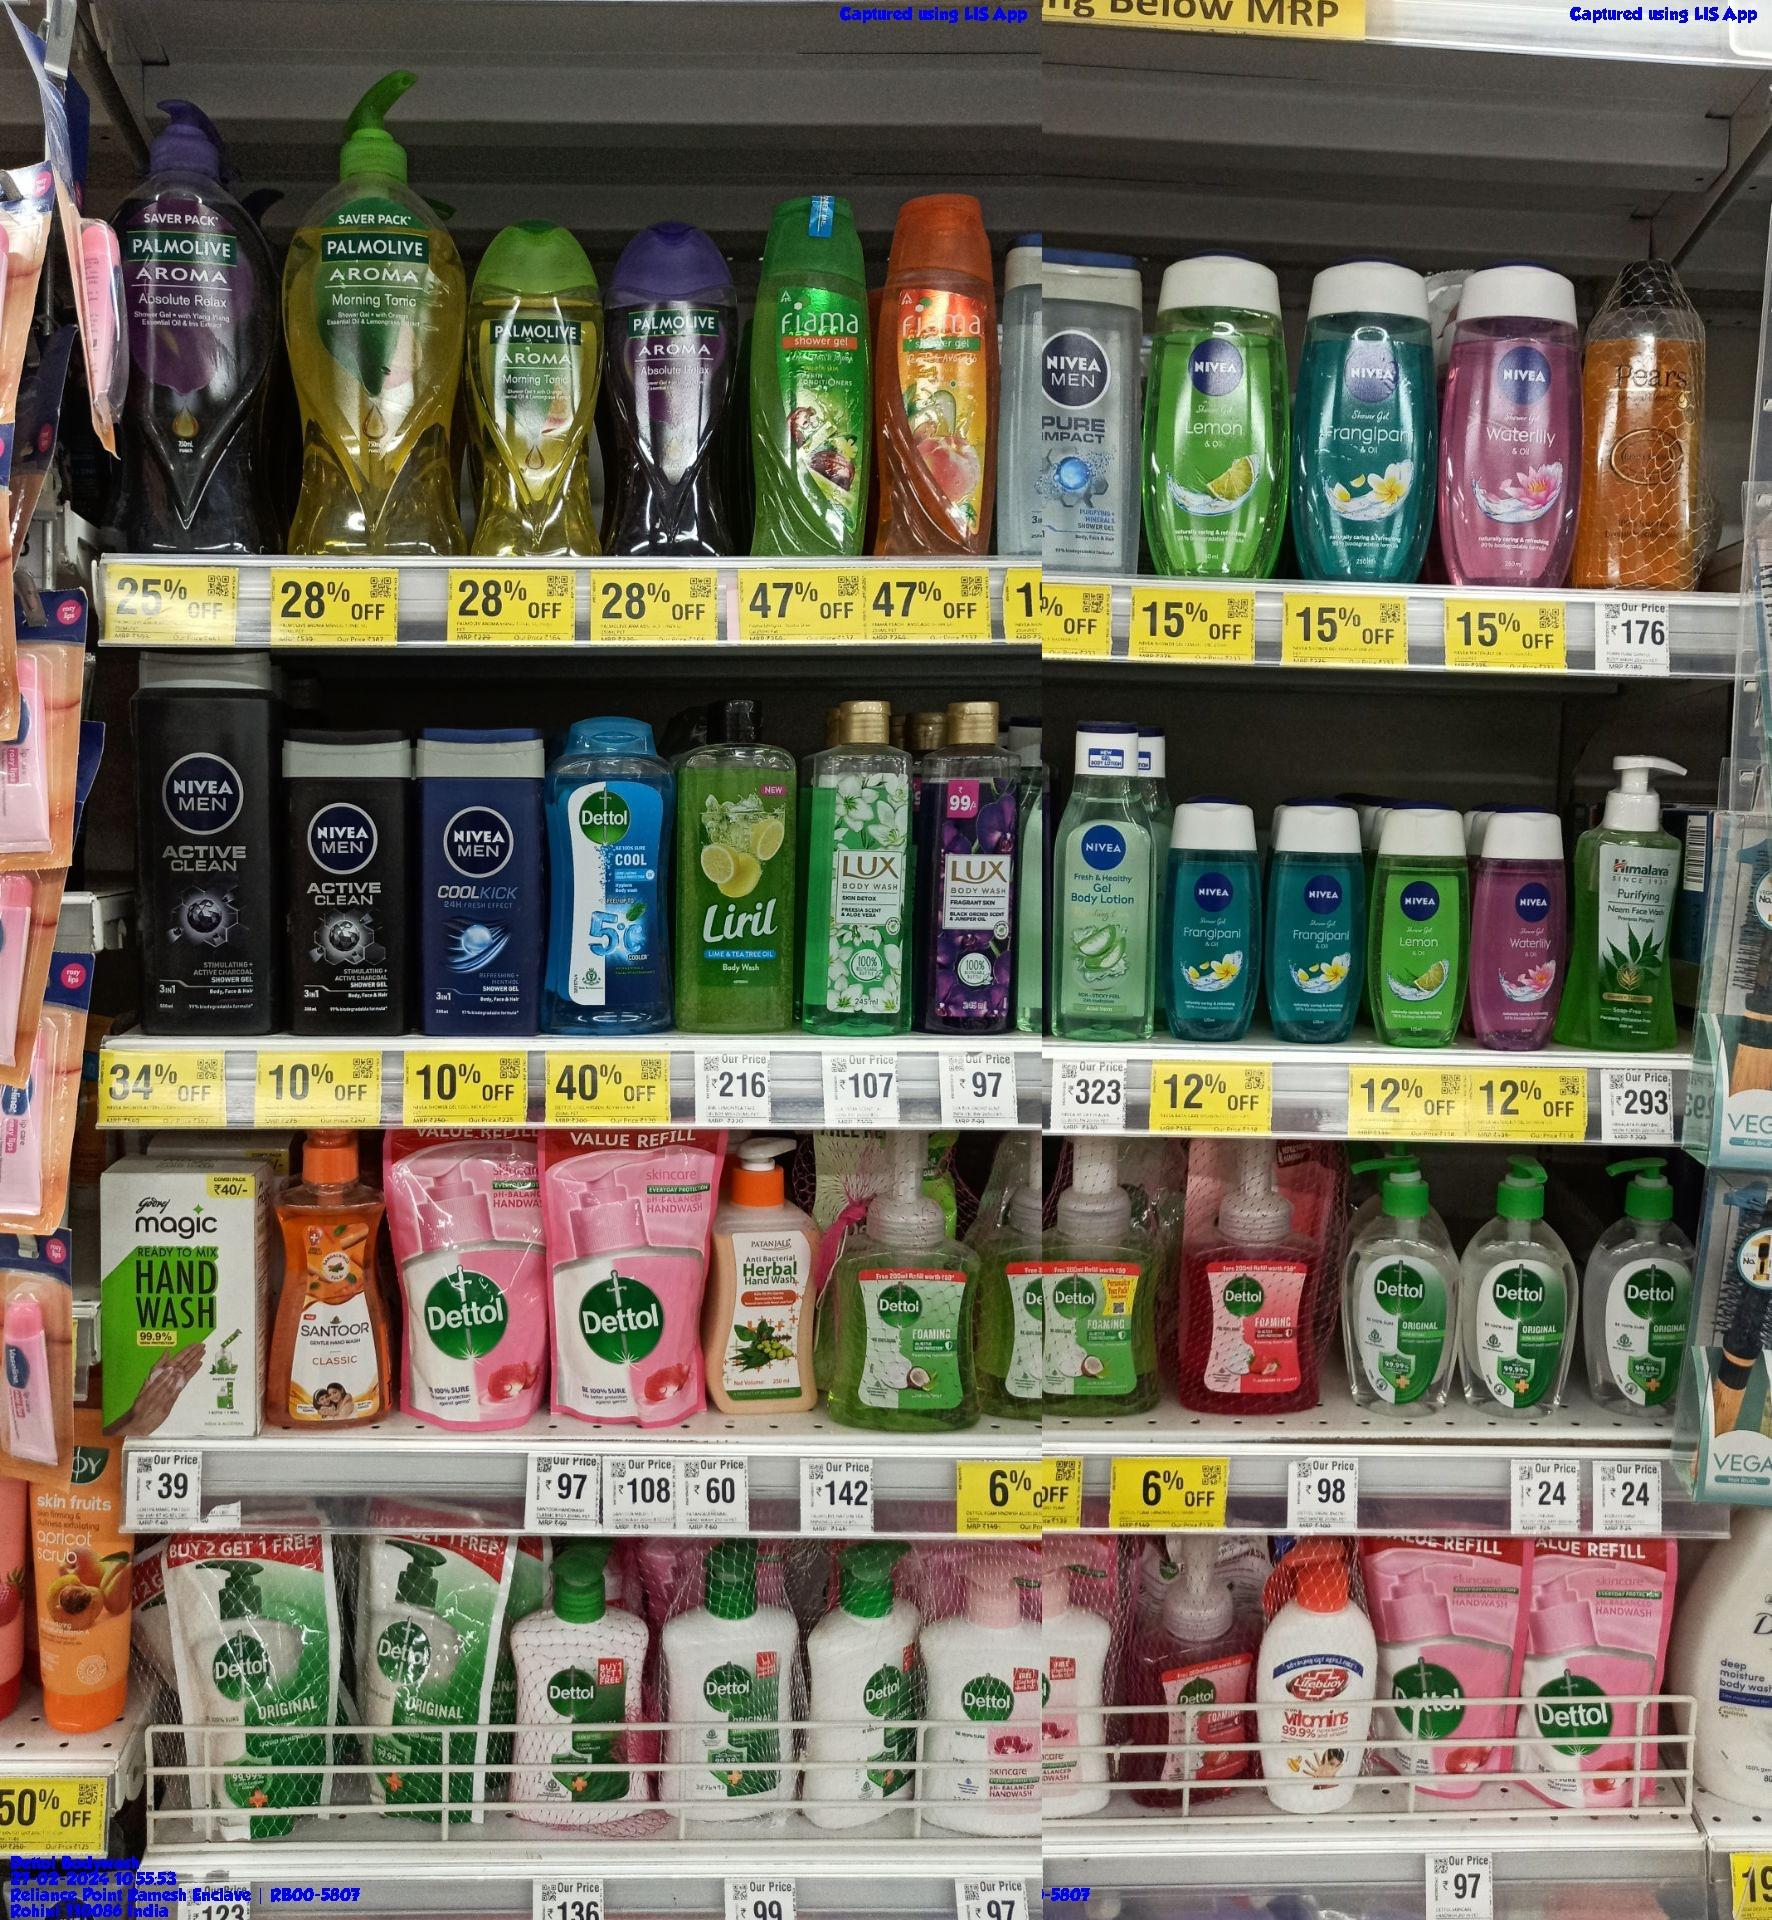Dettol_Bodywash_Cool: (552, 716, 670, 1040)
Fiama_Shower_Gel_Lemongrass_and_Jojoba_250ML: (759, 191, 868, 562)
Fiama_Shower_Gel_Peach_and_Avocado_250ML: (888, 186, 1001, 564)
Liril_Lime_and_Tea_Tree_Oil_Body_Wash_250ML: (685, 696, 796, 1037)
Lux_Black_Orchid_Scent_and_Juniper_Oil_Body_Wash_245ML: (921, 701, 1020, 1040)
Lux_Body_Wash_Skin_Detox_Freesia_Scent_and_Alove_Vera_245ML: (814, 696, 914, 1040)
Nivea_Shower_Gel_Frangipani_and_Oil_250ML: (1302, 248, 1428, 584), (1270, 791, 1364, 1045), (1164, 799, 1255, 1049)
Nivea_Shower_Gel_Lemon_and_Oil_250ML: (1143, 239, 1291, 579), (1374, 808, 1471, 1047)
Nivea_Shower_Gel_Waterlily_and_Oil_250ML: (1441, 253, 1588, 587), (1476, 806, 1565, 1054)
Palmolive_Aroma_Morning_Tonic_Shower_Gel_250ML: (475, 214, 595, 562)
Palmolive_Aroma_Relax_250ML: (607, 214, 739, 565)
